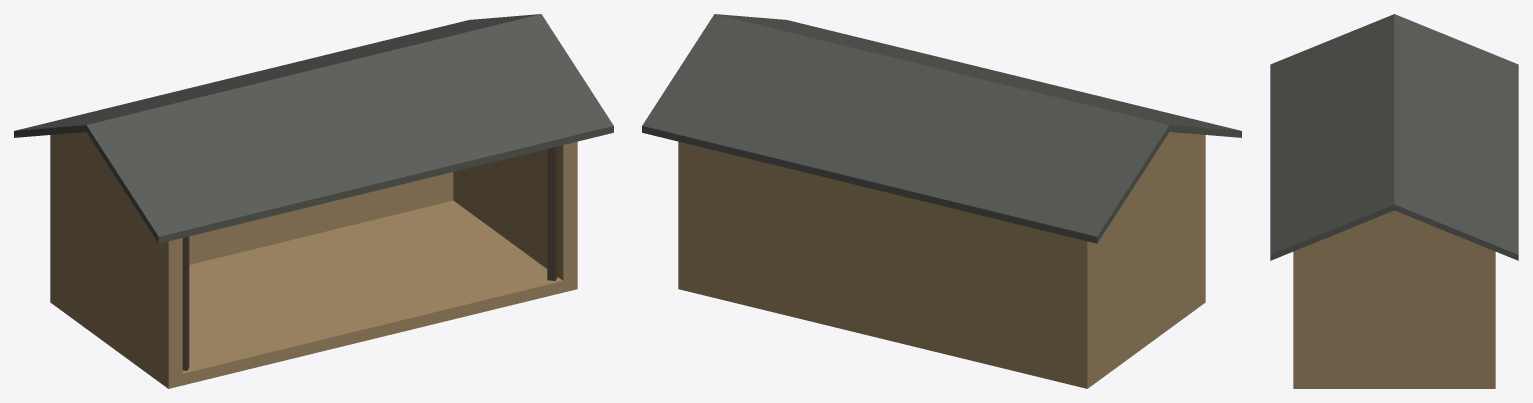
3 renders of one model, left to right at view 1: azimuth 30°, elevation 25°; view 2: azimuth 150°, elevation 25°; view 3: azimuth 270°, elevation 25°, orthographic. The views are drawn at different scales.
Parts seen in each view (by area): view 1: S84-static-LY_P01_earth__FLAT, S84-static-LY_P01_tile__FLAT, S84-static-LY_P01_timber__FLAT; view 2: S84-static-LY_P01_earth__FLAT, S84-static-LY_P01_tile__FLAT; view 3: S84-static-LY_P01_tile__FLAT, S84-static-LY_P01_earth__FLAT.
Boxes of the visible parts, box(x1,y1,x2,y2) form: S84-static-LY_P01_earth__FLAT: box(50, 132, 577, 388); S84-static-LY_P01_tile__FLAT: box(14, 14, 613, 243); S84-static-LY_P01_timber__FLAT: box(182, 146, 557, 370); S84-static-LY_P01_earth__FLAT: box(678, 132, 1205, 388); S84-static-LY_P01_tile__FLAT: box(642, 14, 1241, 243); S84-static-LY_P01_tile__FLAT: box(1270, 14, 1518, 260); S84-static-LY_P01_earth__FLAT: box(1293, 210, 1495, 388).
Size of the model in its own units: 8.9 by 4.23 by 4.9.
